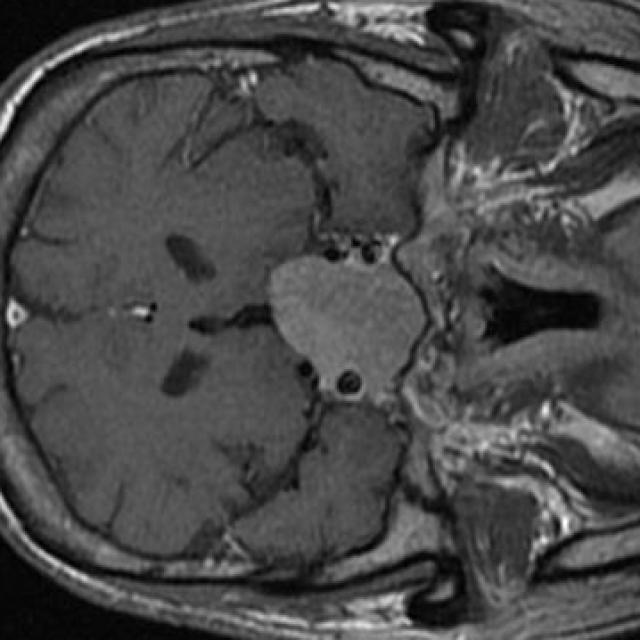pituitary: (267, 255, 426, 396)
